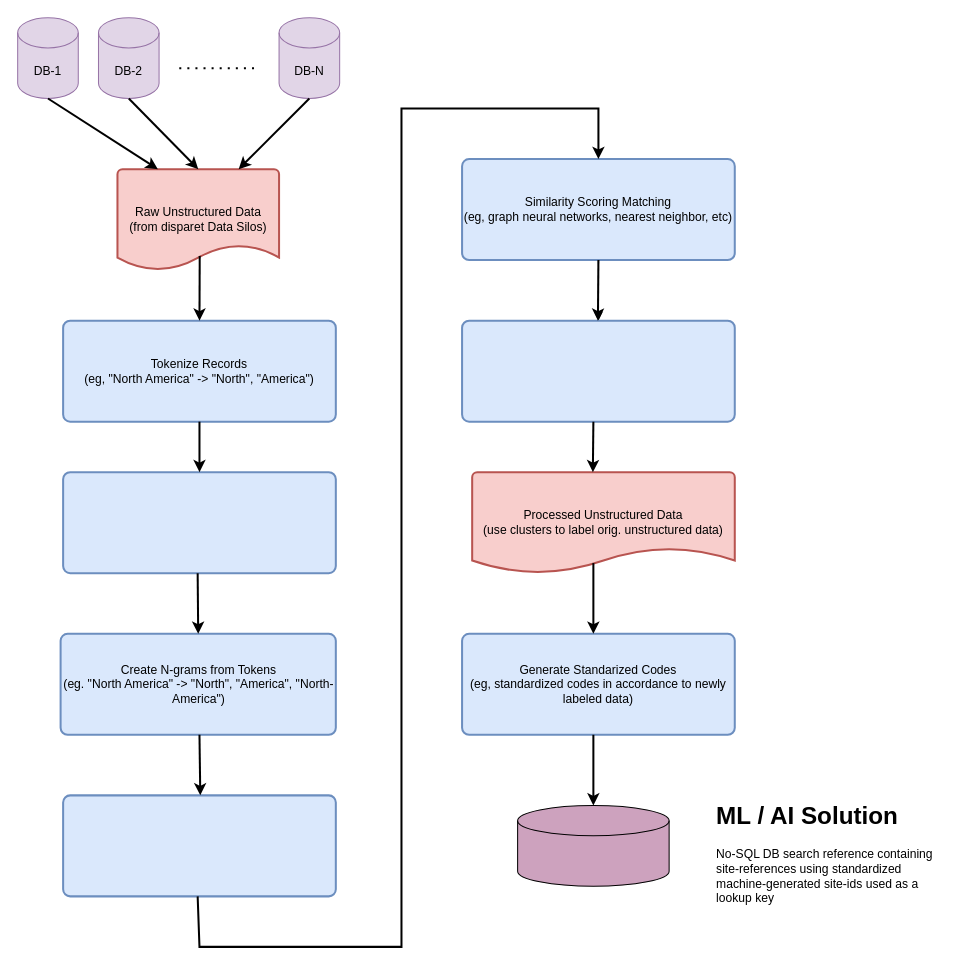
Some shapes in this 954 by 974 pixel diagram are drawn without their labels. The centre of each missing label's shape, as x and y in pixels:
Doc-term Matrix (TFIDF) (eg, convert N-grams into a Doc-term matrix): [199,845]
Generate Clusters (eg, label data silos according to sim. scoring ): [598,370]
No-SQL DB (Labeled unstructured data from AI / ML pipeline ): [593,845]
Update Tokens via Word Embeddings using LLMs (eg, Avenida == Ave ): [199,522]
